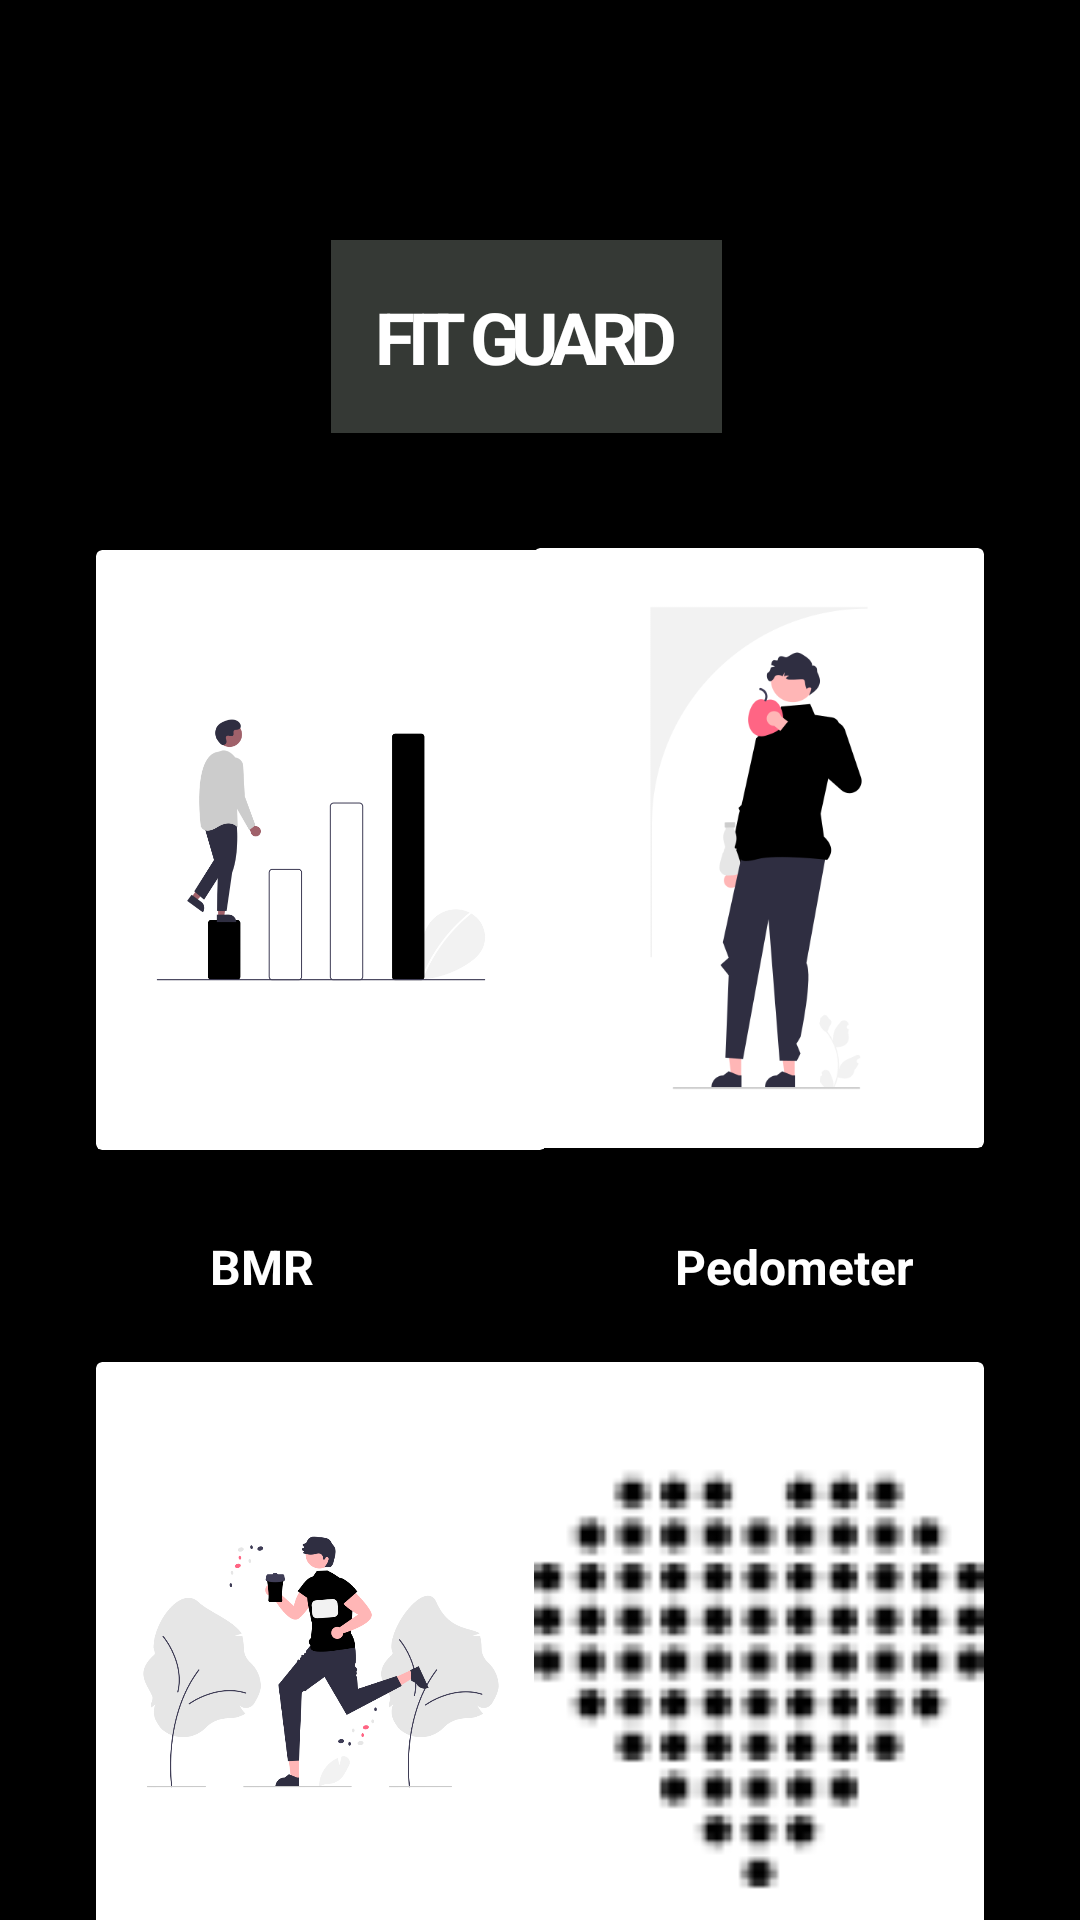

Locate icon controls on the screen. Image size 1080 × 1920, boxes as (x1, y1, x2, y2).
BMI Image: (157, 719, 485, 981)
